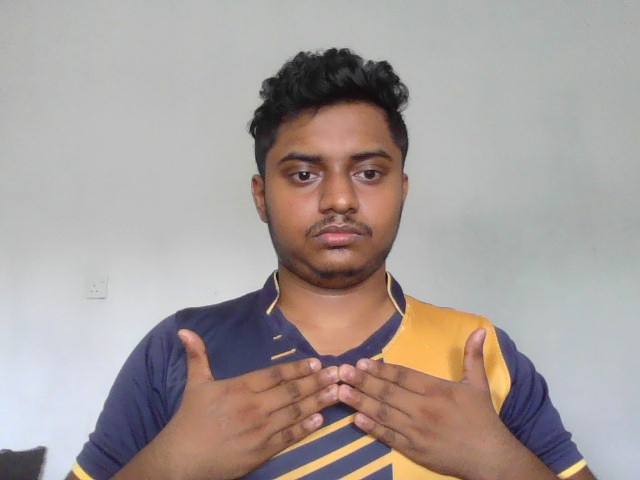Thank You: (162, 325, 508, 479)
